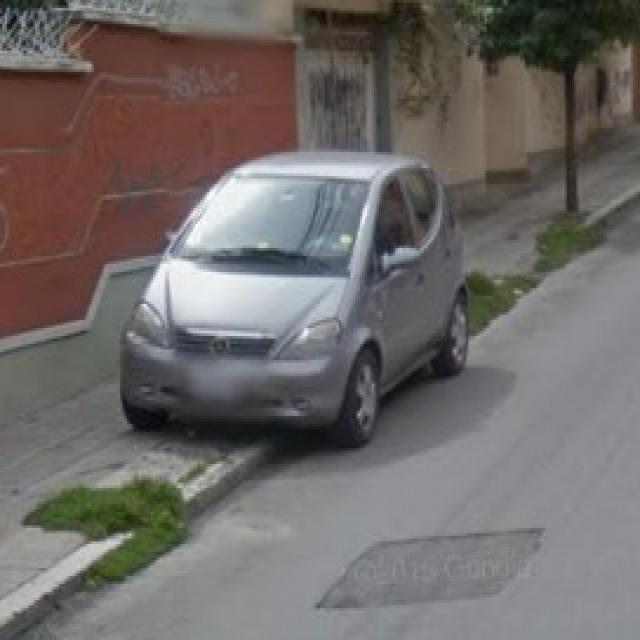cars: (118, 146, 481, 446)
